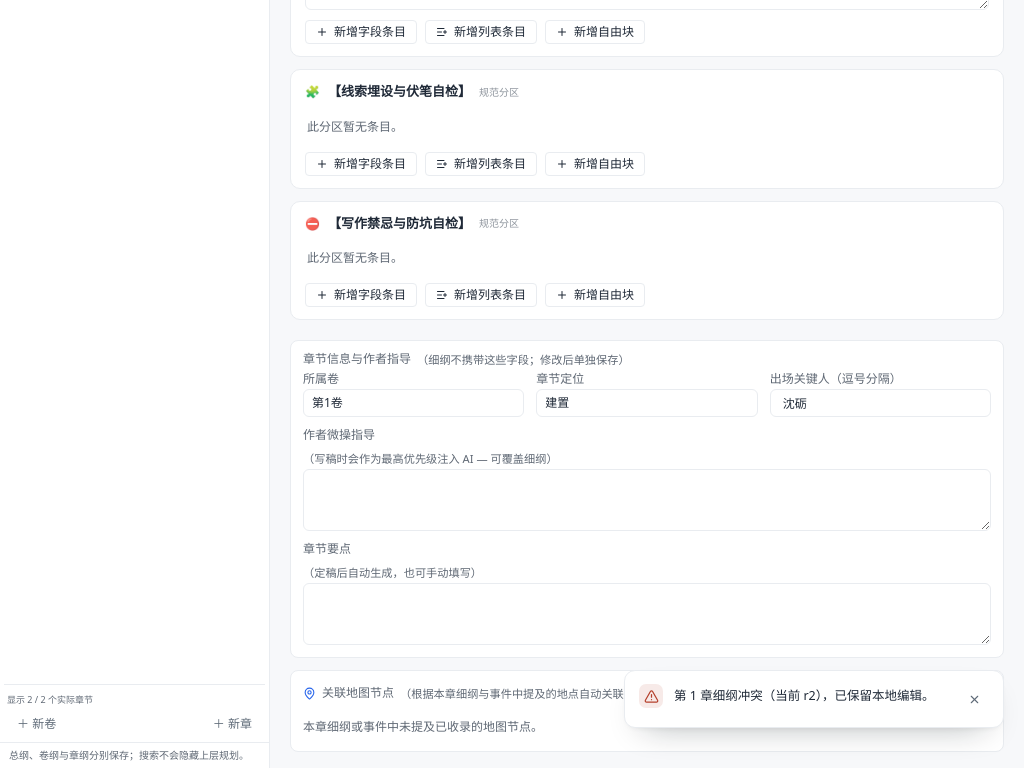
Test: ChapterCardEditor writing entry › appends after the blueprint maximum when the authoritative next blueprint already exists
This screenshot has width=1024, height=768.
Click the button with test id "blueprint-planning-add-chapter": {"x": 232, "y": 724} [203,712,262,736]
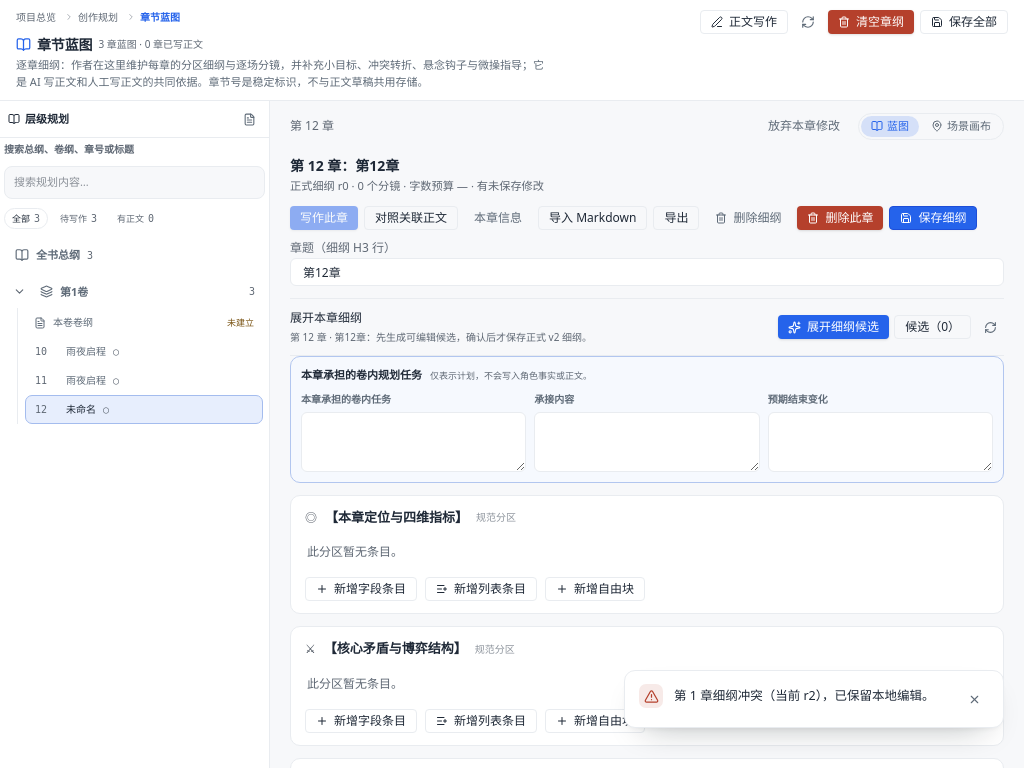
Check: the text "第 12 章：" is shown, box [290,156,399,174]
